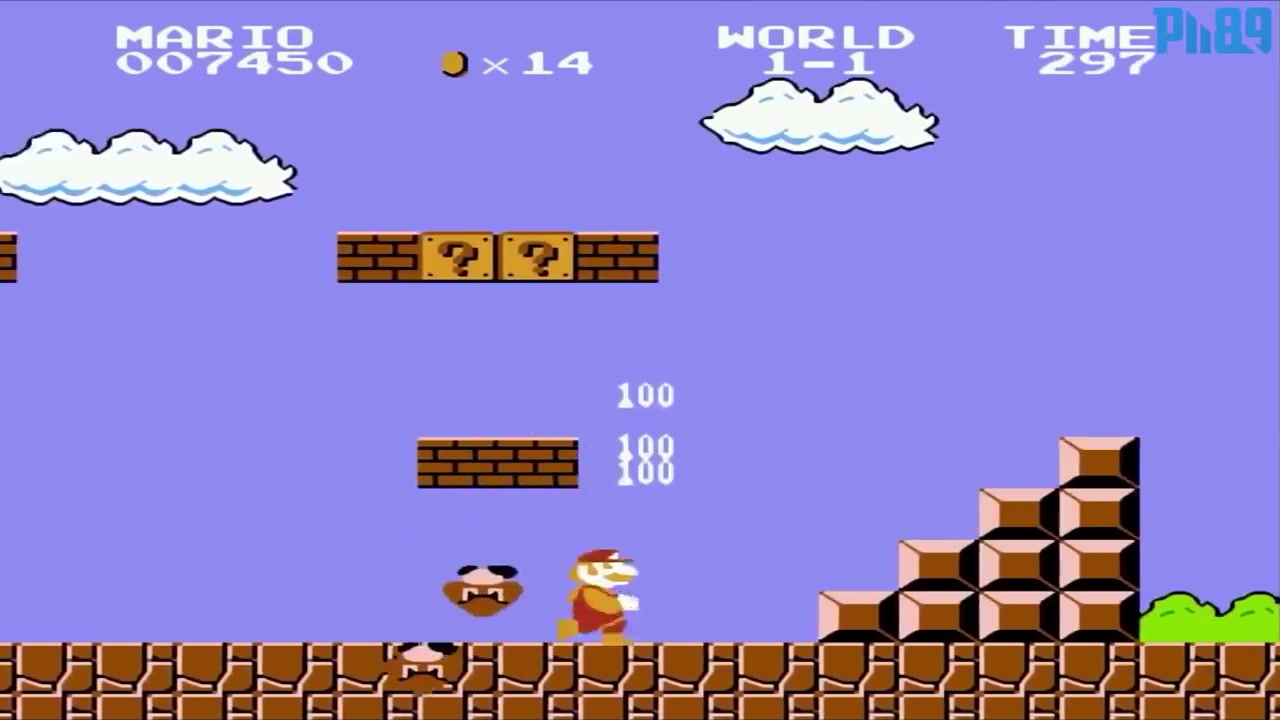mario: (550, 542, 646, 643)
